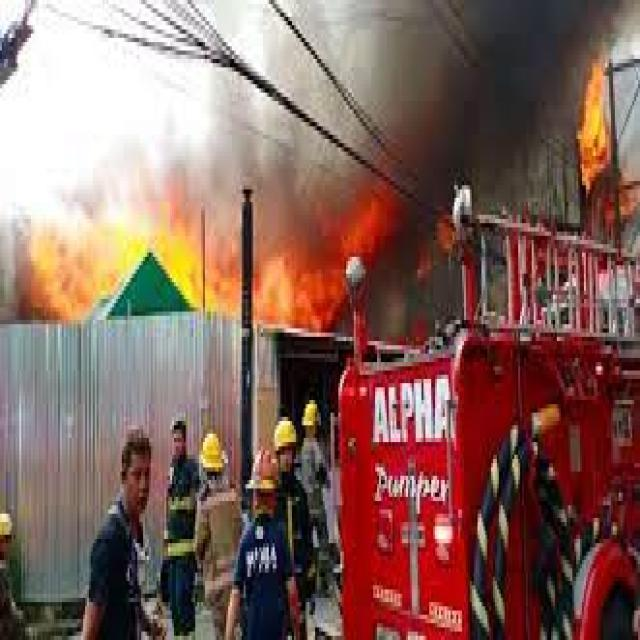Fire: (34, 206, 221, 323), (258, 190, 342, 325), (344, 182, 402, 250), (580, 72, 612, 191)
Smoke: (379, 8, 640, 190)
